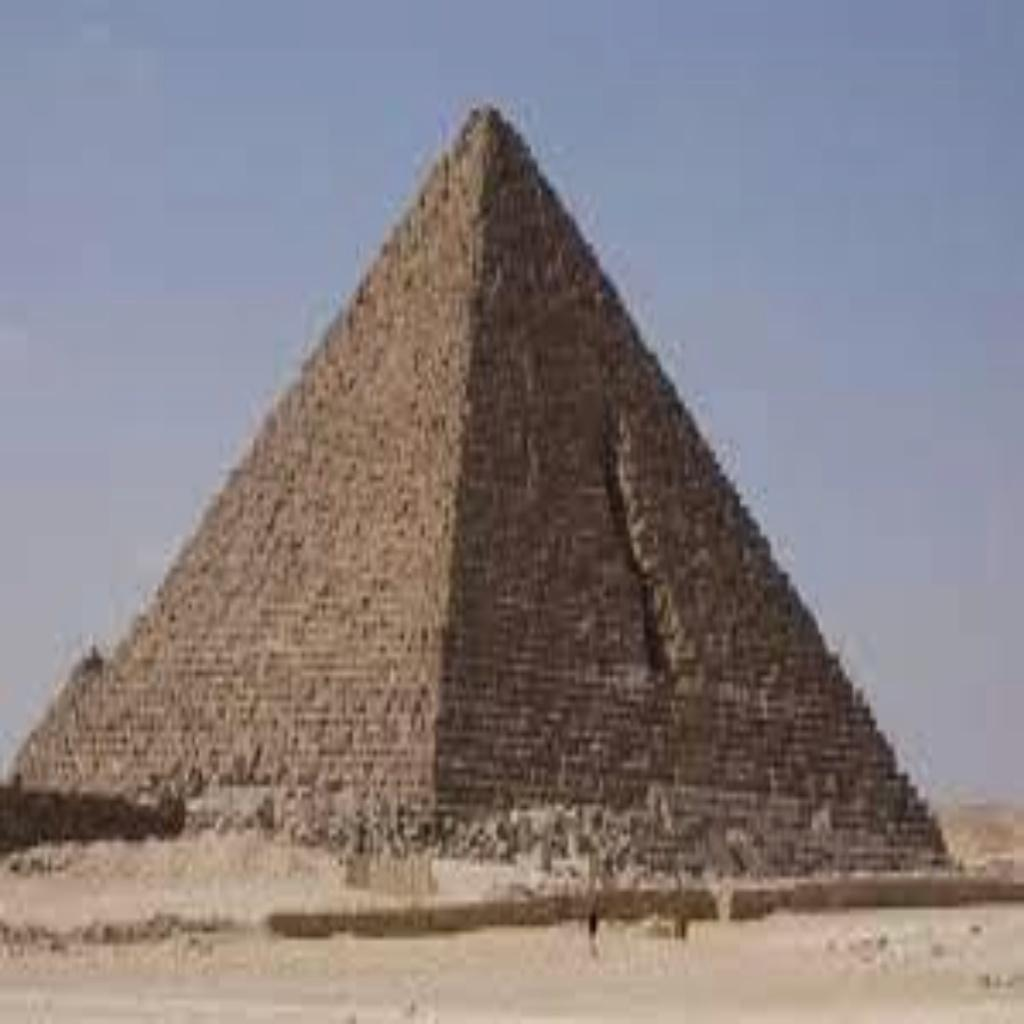Great Pyramids of Giza: (10, 98, 959, 902)
